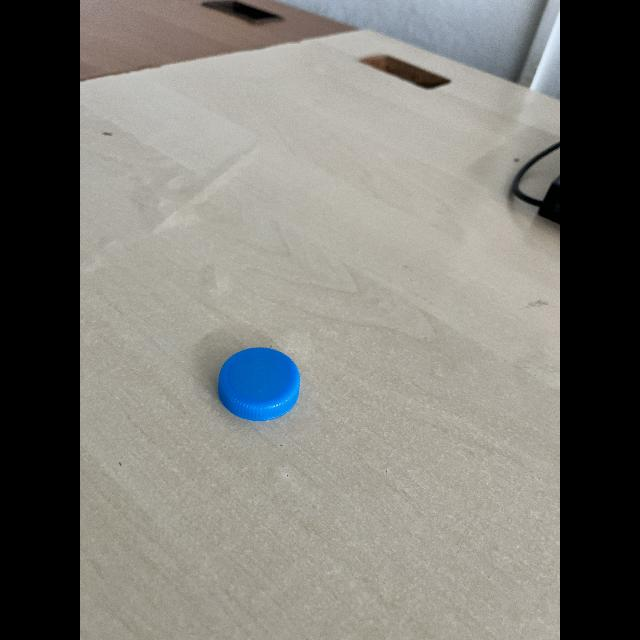plastic_bottle_cap: (212, 342, 306, 418)
